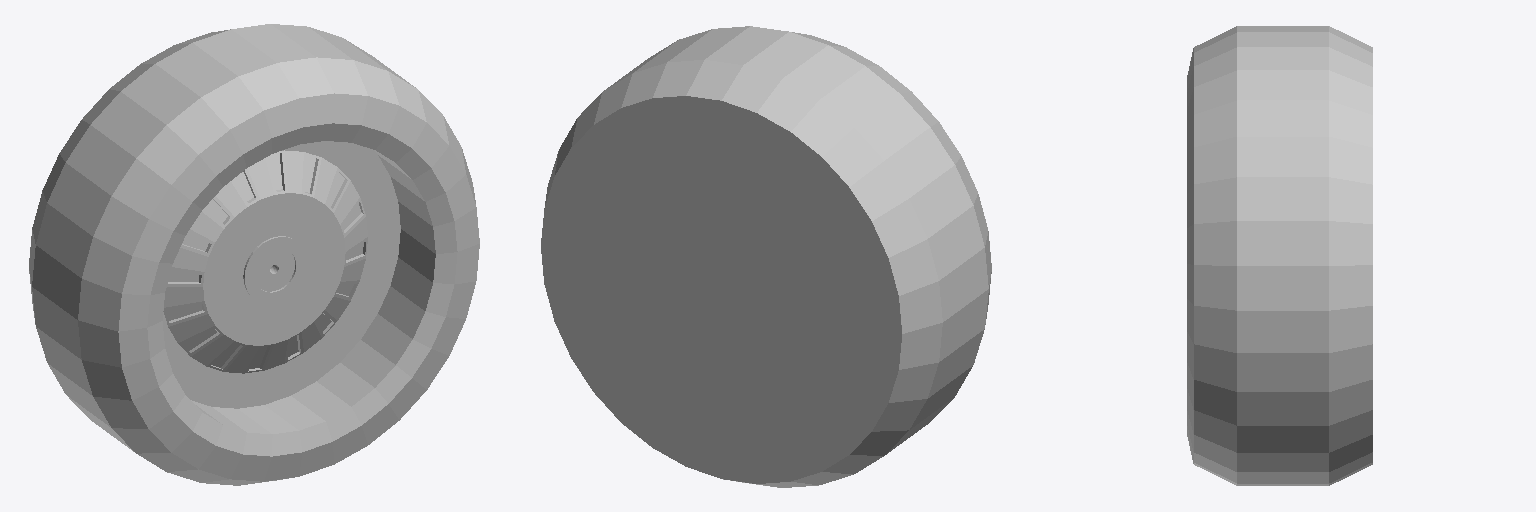
File: WFL.obj
The picture shows the model from 3 angles: view 1: azimuth 30°, elevation 25°; view 2: azimuth 150°, elevation 25°; view 3: azimuth 270°, elevation 25°; orthographic projection.
Visible parts, largest first — view 1: f_wheel; view 2: f_wheel; view 3: f_wheel.
Part boxes in pixels (x1,y1,x2,y2): f_wheel: (29, 24, 479, 485); f_wheel: (541, 26, 991, 487); f_wheel: (1187, 26, 1372, 485).
Bounding box in the file's own units: 1.44 × 1.44 × 0.5822.